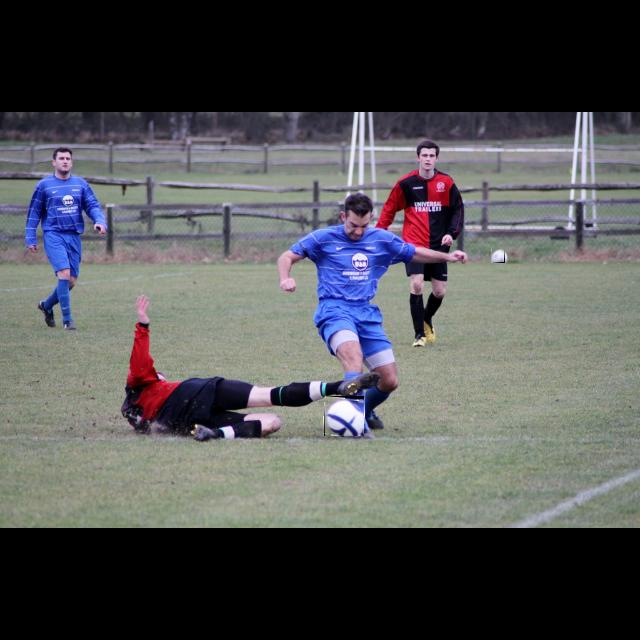Football: (324, 396, 364, 436), (491, 249, 505, 263)
